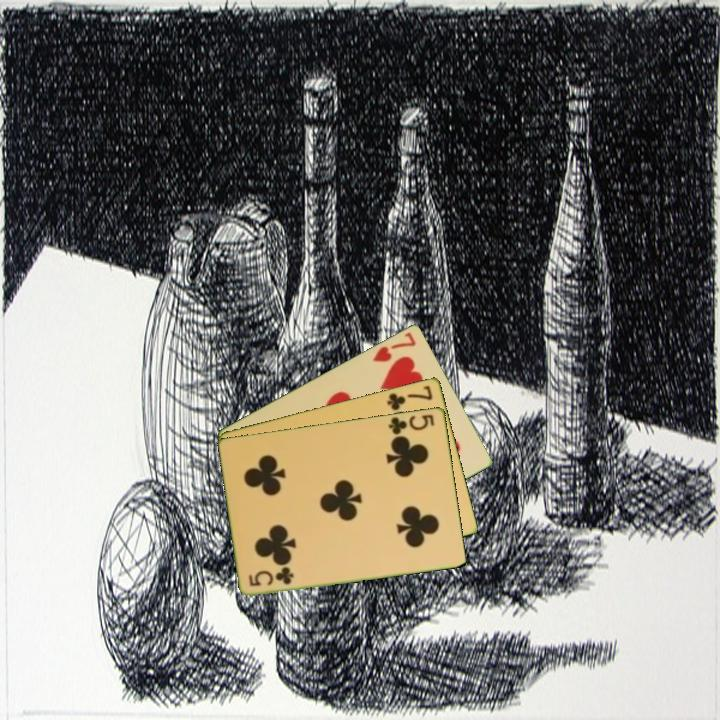5c: (385, 411, 437, 439), (245, 565, 297, 589)
7c: (383, 381, 435, 413)
7h: (369, 328, 419, 365)
